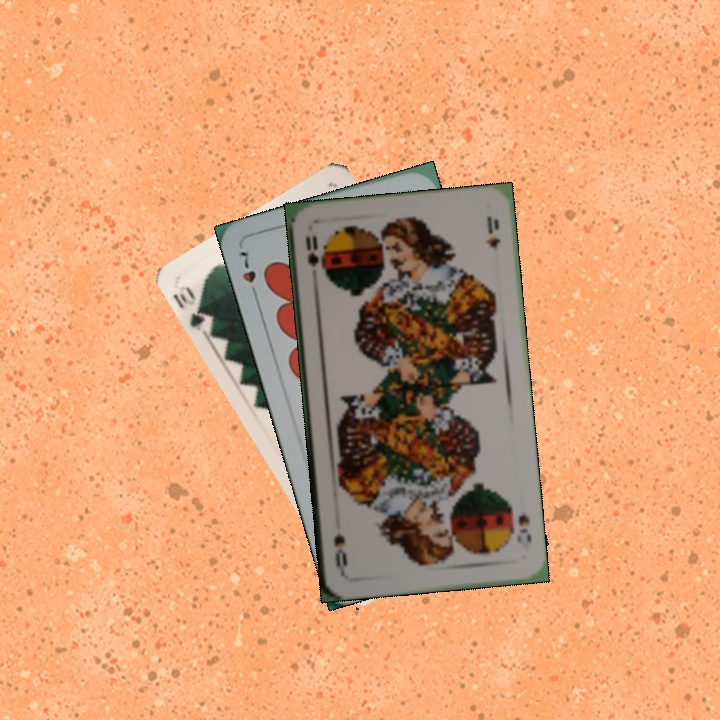G10: (169, 282, 216, 336)
H7: (234, 247, 262, 302)
SO: (301, 231, 325, 272), (512, 510, 534, 553)
